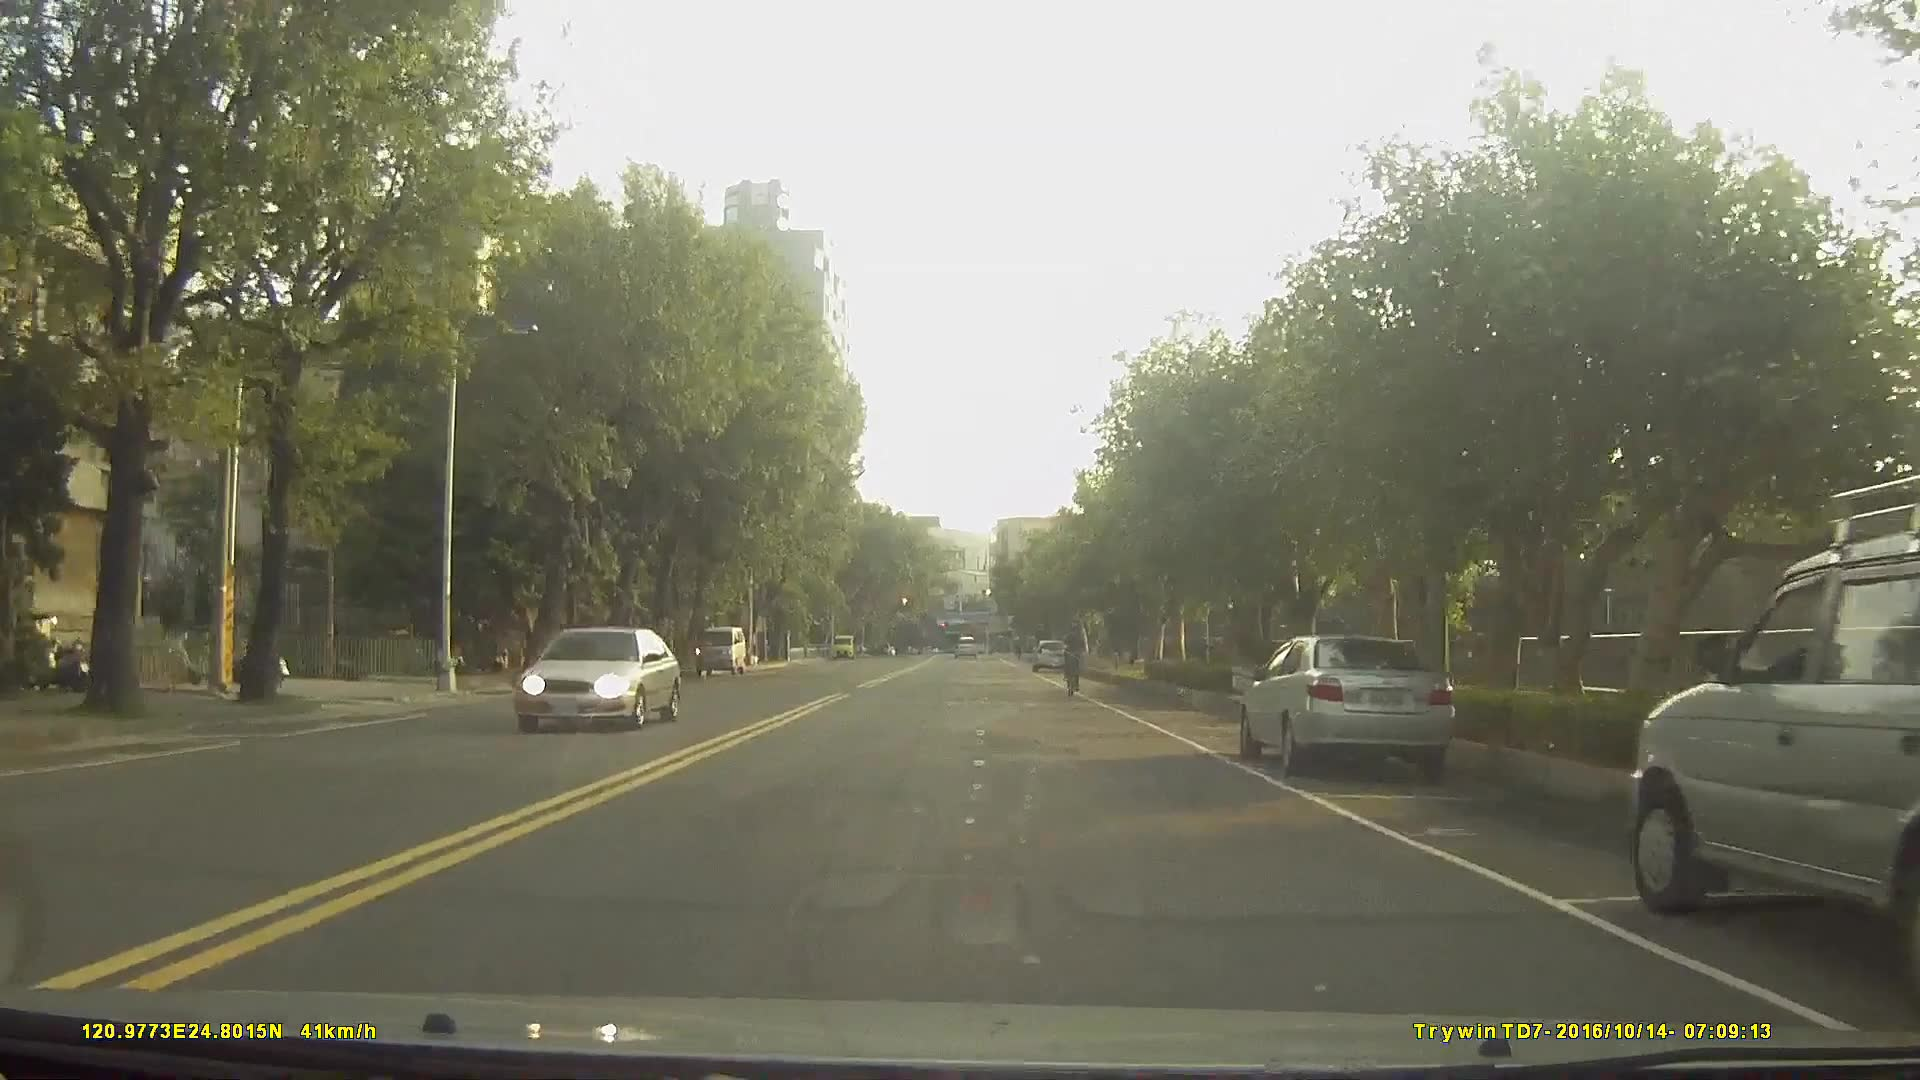rider: (1061, 618, 1088, 702)
vehicle: (1633, 528, 1920, 984), (1239, 635, 1459, 781), (510, 622, 681, 733), (609, 637, 671, 688), (693, 624, 745, 677), (1030, 637, 1070, 675), (953, 634, 979, 661)
